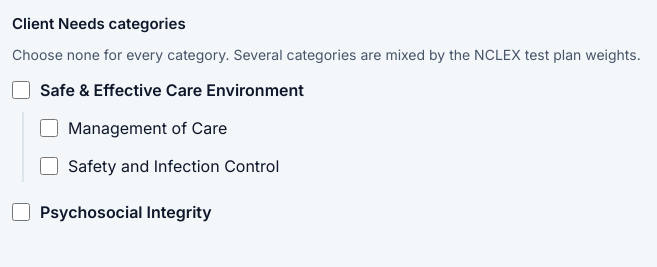
Test: CategoryTree › treats a category without subcategories as a leaf
Click the checkbox labelled "Psychosocial Integrity". click: (21, 212)
box: [12,203,30,221]
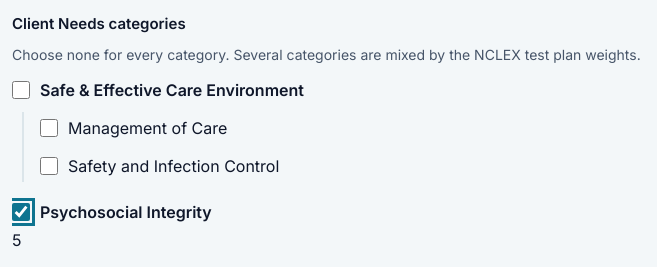
Expected: the text with test id "value" reads "5", [12,230,22,250]
